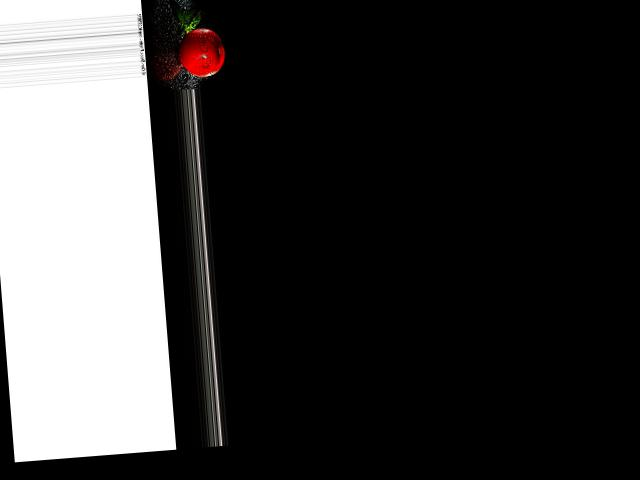tomato: (177, 26, 226, 78)
